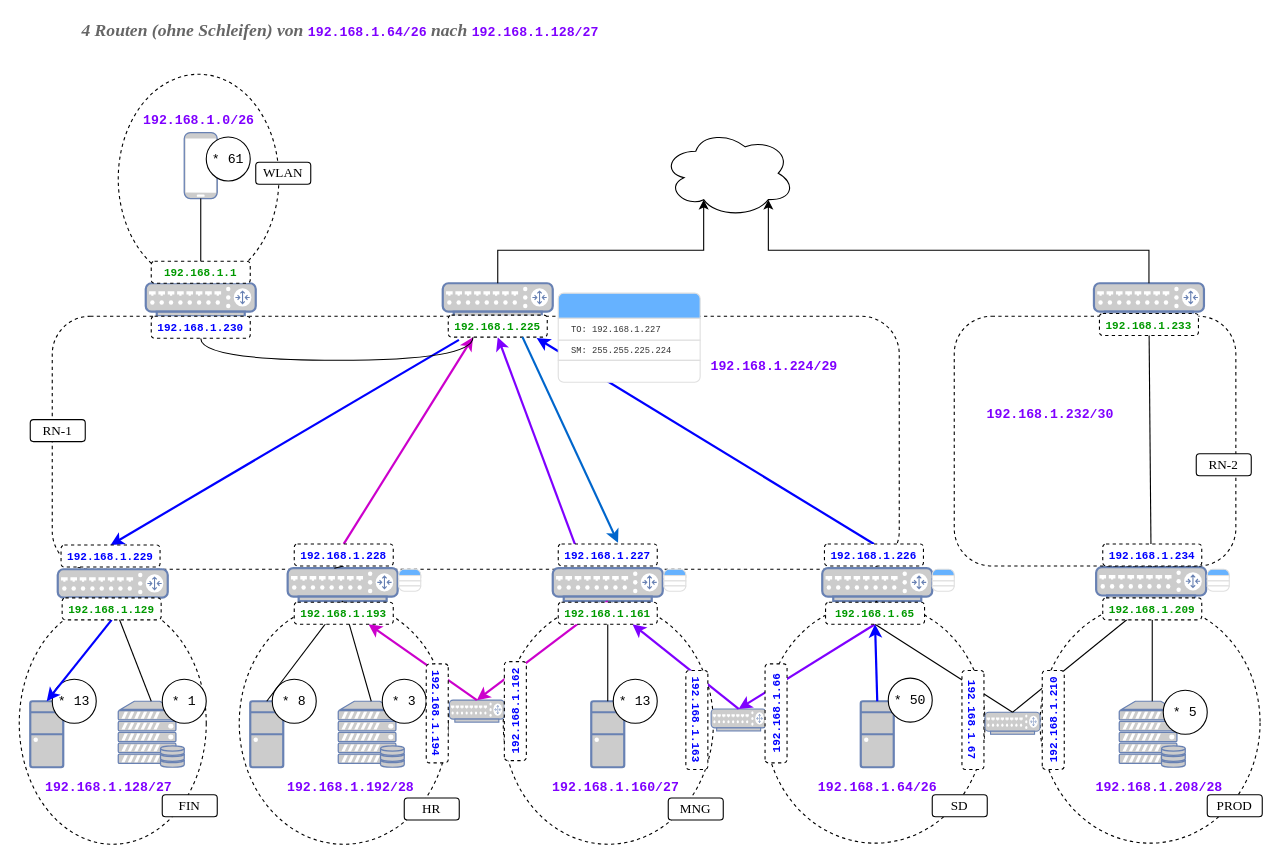
Image size: 1282x864. Some labels were removed from this diagram. Each missing label, with the box of its shape:
Internet: (662, 128, 795, 217)
NA: 192.168.1.160: (557, 359, 700, 382)
Route-TO-MNG: (557, 292, 700, 318)
